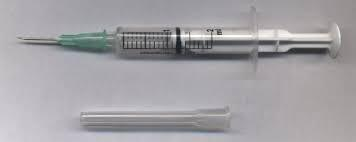Syringe: (19, 22, 340, 57)
